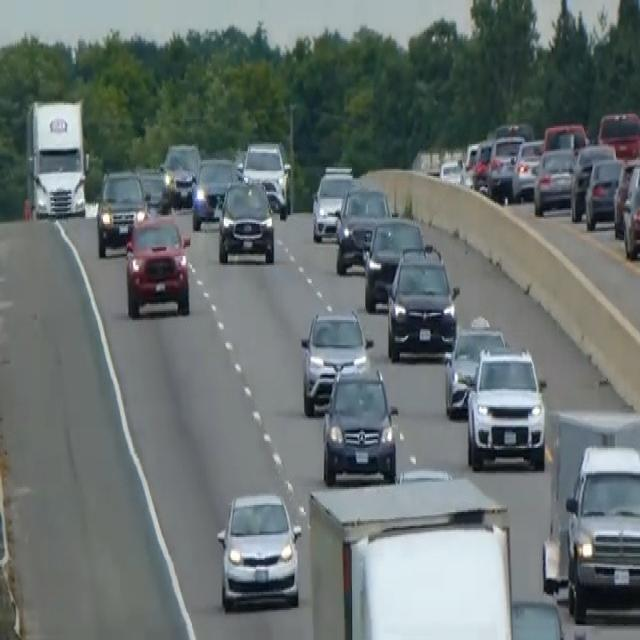car: (215, 487, 302, 612), (465, 345, 547, 471), (321, 361, 398, 485), (385, 243, 458, 361), (299, 306, 372, 416), (124, 208, 191, 318), (443, 316, 506, 418), (362, 213, 424, 311), (217, 176, 275, 265), (334, 183, 390, 274), (95, 167, 147, 256), (241, 137, 291, 217), (569, 140, 615, 220), (191, 155, 237, 229), (311, 167, 354, 242), (532, 144, 576, 215), (584, 156, 623, 230), (161, 140, 200, 207), (486, 132, 524, 199), (597, 108, 639, 158), (512, 137, 544, 199), (136, 164, 172, 214), (621, 162, 639, 258), (462, 135, 492, 190), (542, 121, 588, 153), (438, 155, 464, 185)
lorry: (22, 94, 91, 220)
truck: (563, 439, 639, 622)
